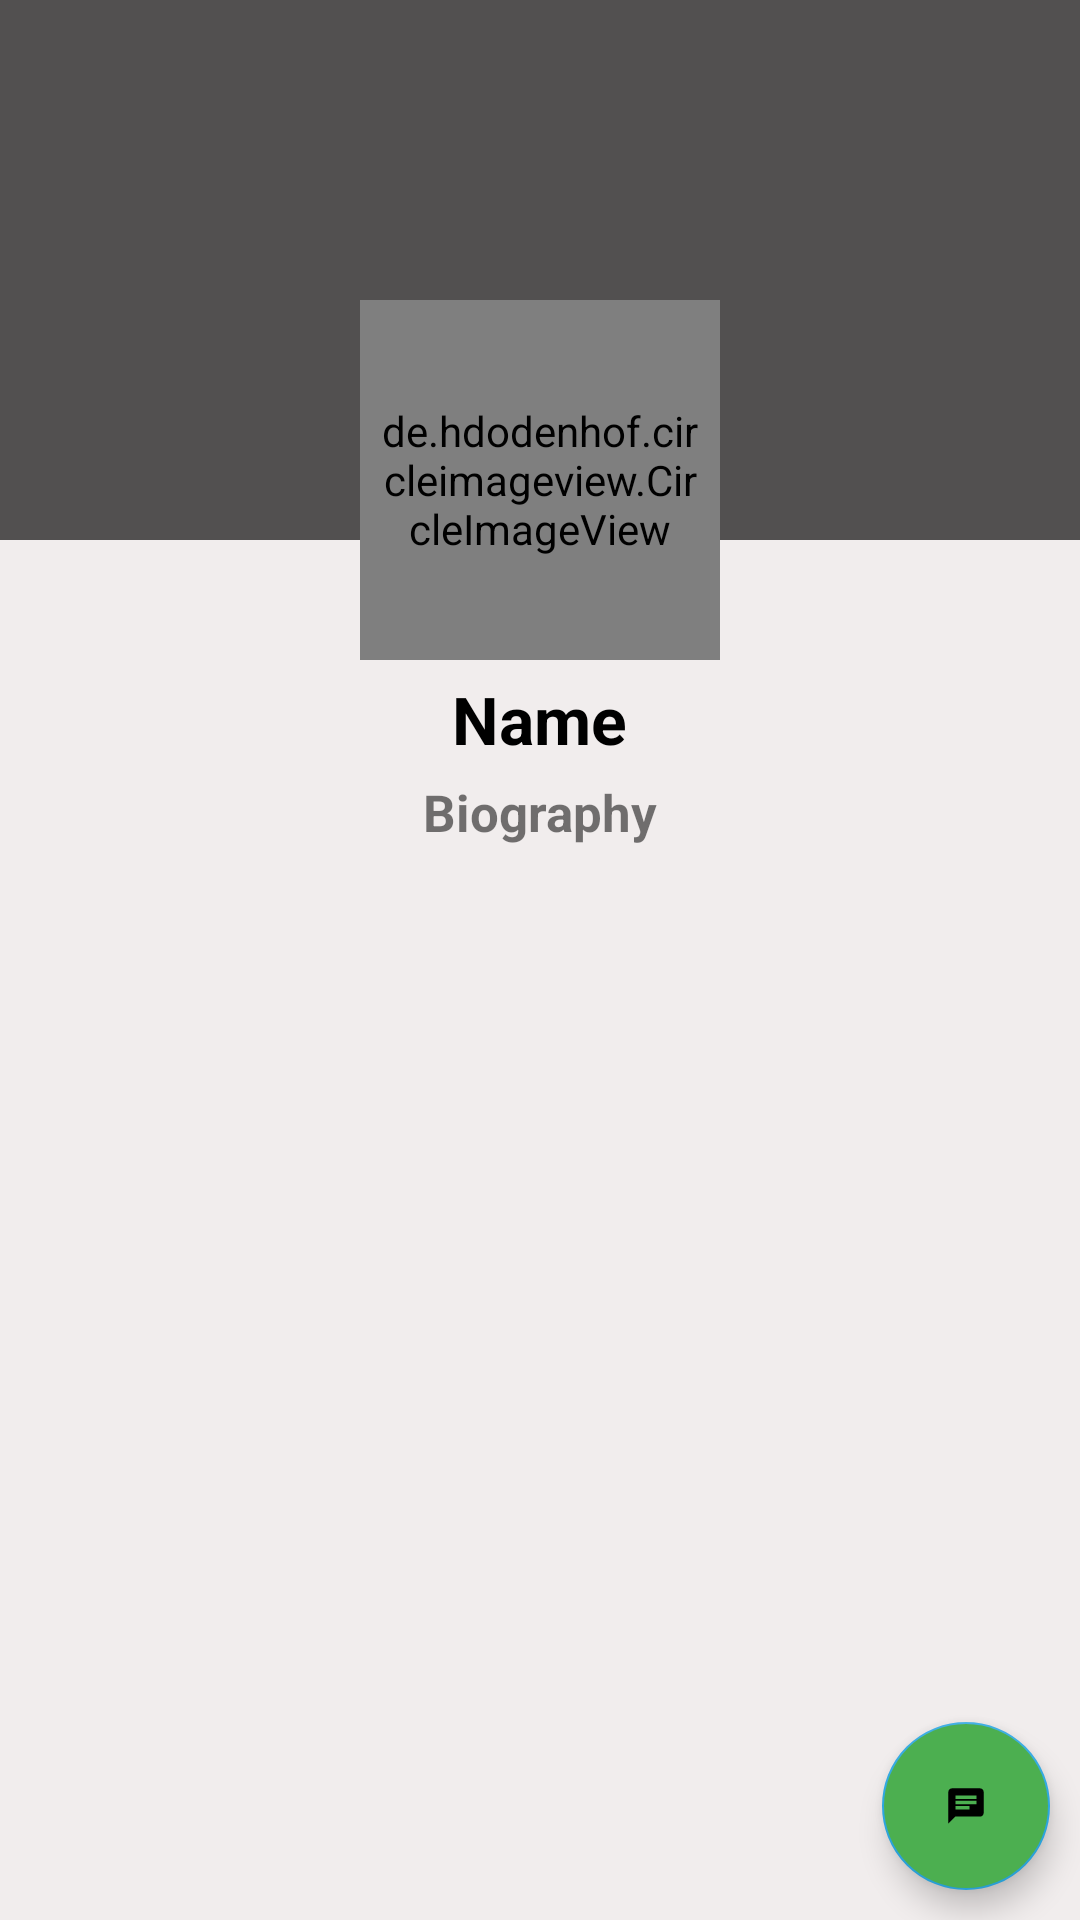

Point at icon controls on the screen. Image size 1080 × 1920, points as point (x, y).
chat: point (966, 1806)
